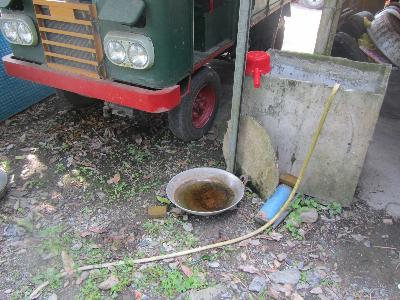bowl: (164, 168, 245, 217), (243, 49, 272, 78)
